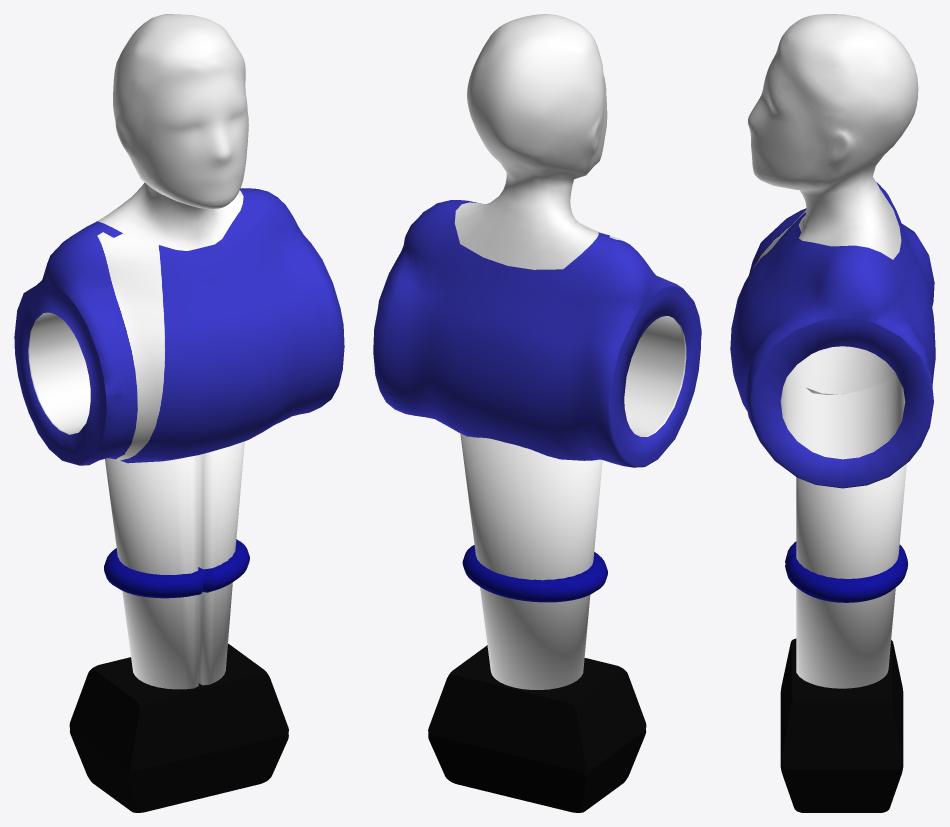
File: blue_kit_3_foosball_player.obj
The picture shows the model from 3 angles, left to right: view 1: azimuth 30°, elevation 25°; view 2: azimuth 150°, elevation 25°; view 3: azimuth 270°, elevation 25°; orthographic projection.
Visible parts, largest first — view 1: Body_Cylinder.001; view 2: Body_Cylinder.001; view 3: Body_Cylinder.001.
Boxes of the visible parts, x1,y1,x2,y2 form: Body_Cylinder.001: (14, 14, 344, 812); Body_Cylinder.001: (373, 14, 701, 812); Body_Cylinder.001: (730, 14, 935, 812).
Size of the model in its own units: 4.49 by 13.64 by 3.34.
Materials: 4 (1 with a texture image).
